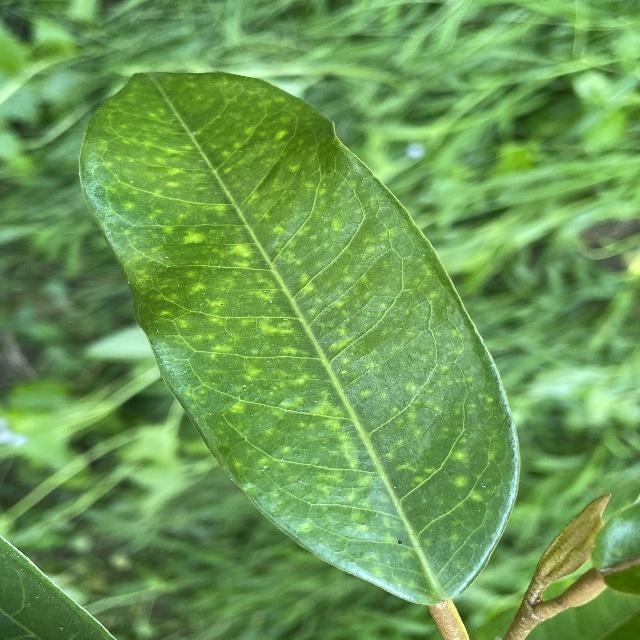Leaf Spot: (71, 60, 530, 615)
